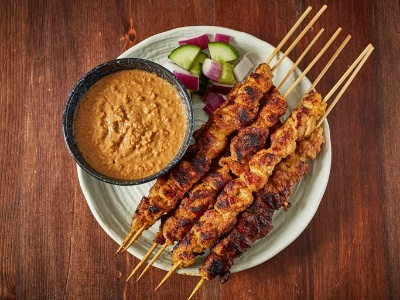sate: (149, 13, 372, 274)
